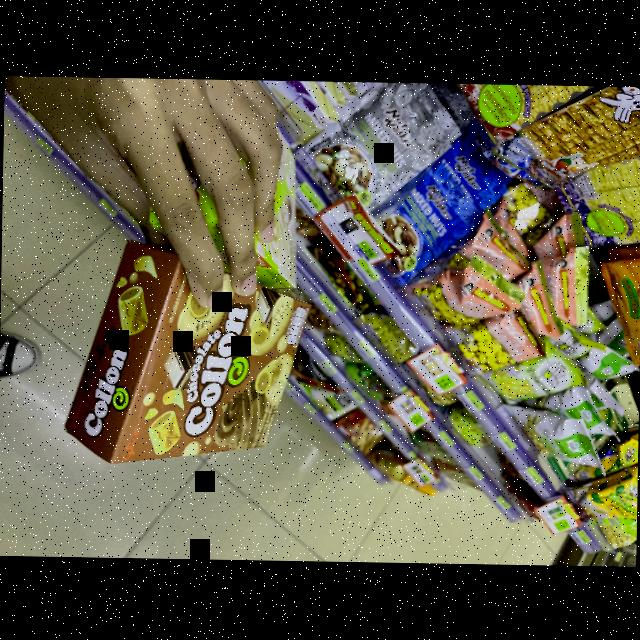cardboard_box: (64, 236, 318, 476)
